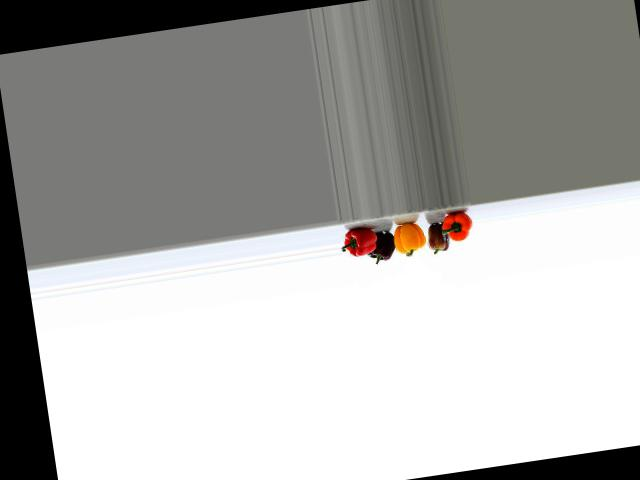bell_pepper: (438, 206, 476, 252)
